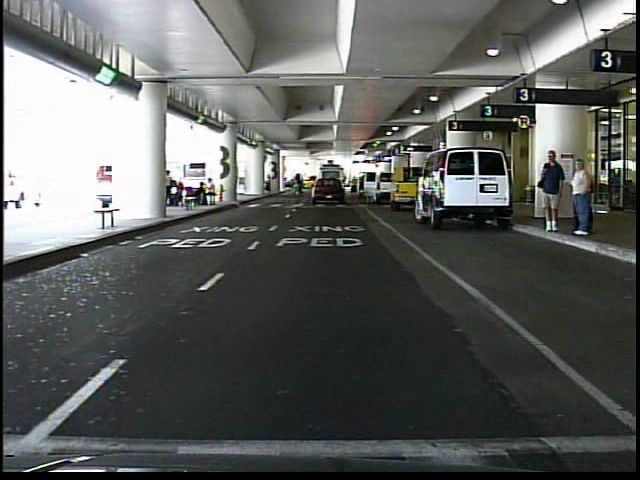person: (566, 152, 597, 241), (537, 146, 566, 235), (348, 169, 362, 200), (265, 169, 276, 194)
